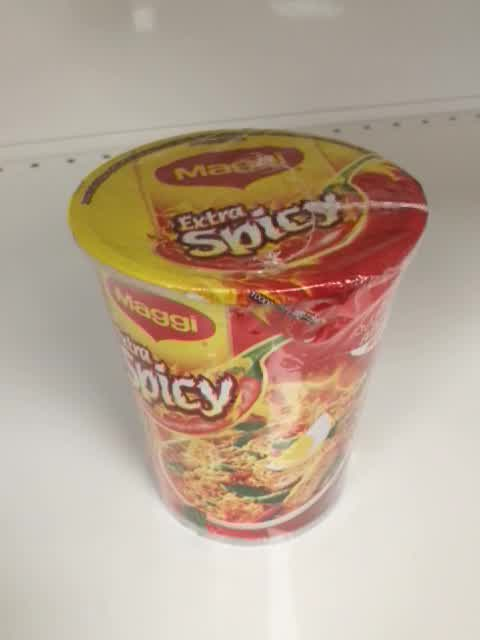maggi: (65, 127, 430, 547)
